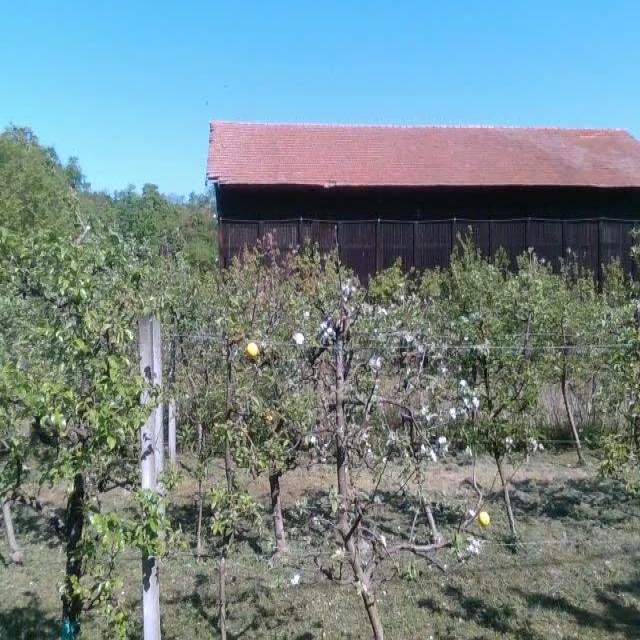yellow: (477, 511, 490, 528), (247, 342, 258, 357)
